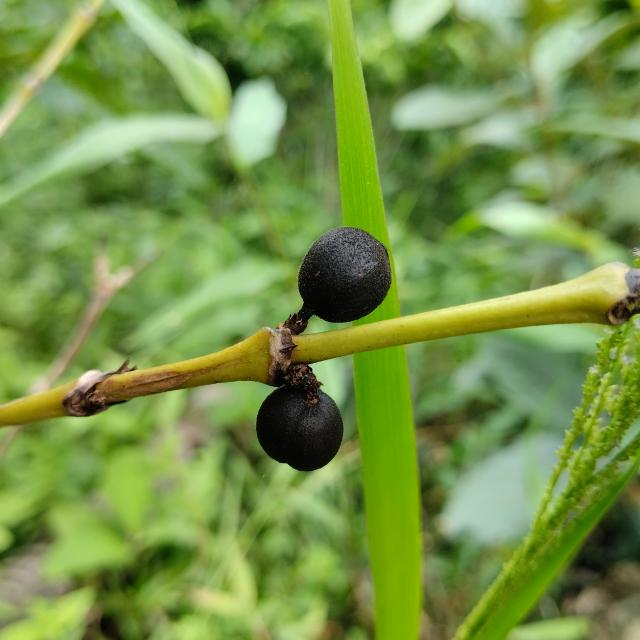red: (298, 227, 392, 322), (256, 387, 343, 472)
